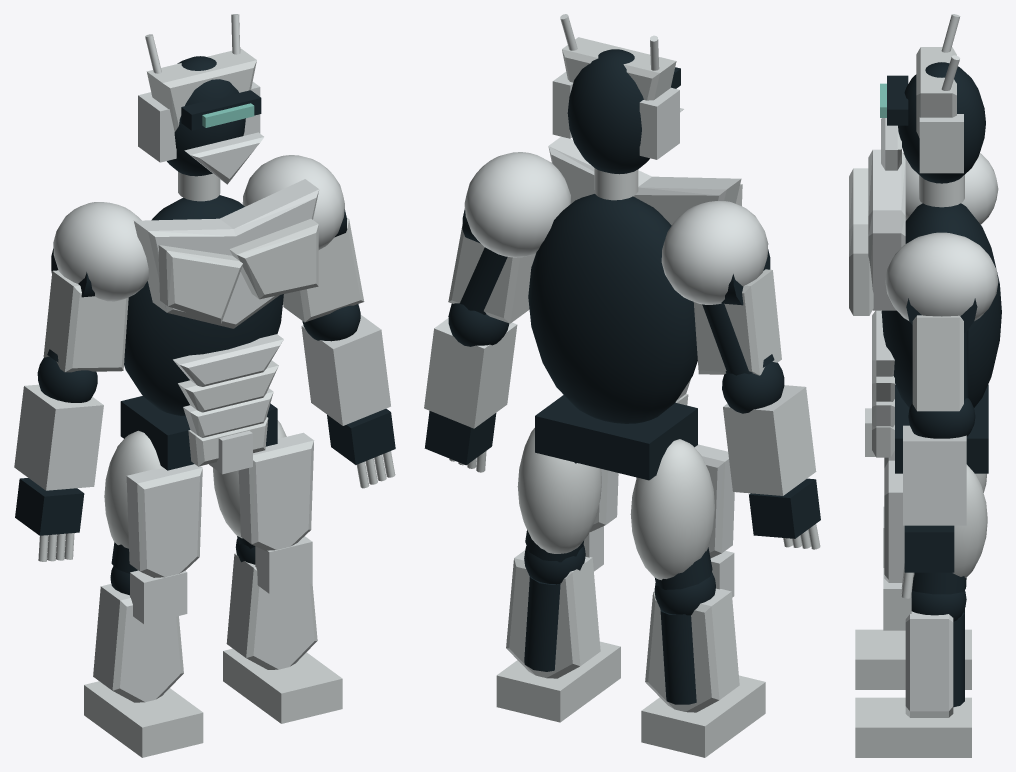
The model's file is industrial-robot.glb.
3 renders of one model, left to right at view 1: azimuth 30°, elevation 25°; view 2: azimuth 150°, elevation 25°; view 3: azimuth 270°, elevation 25°, orthographic. The views are drawn at different scales.
Parts seen in each view (by area): view 1: torso, leg-left, leg-right, head, arm-left, elbow-left, elbow-right, arm-right; view 2: torso, leg-left, leg-right, head, arm-left, arm-right, elbow-left, elbow-right; view 3: leg-right, torso, arm-right, head, elbow-right, leg-left, arm-left.
Part boxes in pixels (box(x1,y1,x2,y2)): torso: box(120, 179, 319, 474); leg-left: box(84, 430, 203, 757); leg-right: box(213, 420, 342, 723); head: box(138, 14, 263, 201); arm-left: box(43, 202, 148, 372); elbow-left: box(14, 356, 103, 561); elbow-right: box(301, 304, 395, 488); arm-right: box(242, 155, 364, 322); torso: box(528, 136, 742, 480); leg-left: box(630, 439, 765, 757); leg-right: box(496, 428, 620, 722); head: box(552, 14, 683, 200); arm-left: box(661, 201, 781, 375); arm-right: box(448, 152, 570, 323); elbow-left: box(722, 361, 820, 549); elbow-right: box(424, 303, 517, 472); leg-right: box(855, 460, 987, 757); torso: box(849, 149, 1001, 473); arm-right: box(885, 232, 998, 411); head: box(880, 14, 985, 207); elbow-right: box(901, 398, 975, 598); leg-left: box(855, 450, 986, 689); arm-left: box(903, 153, 998, 224).
Size of the model in its own units: 2.33 by 4.2 by 0.865.
